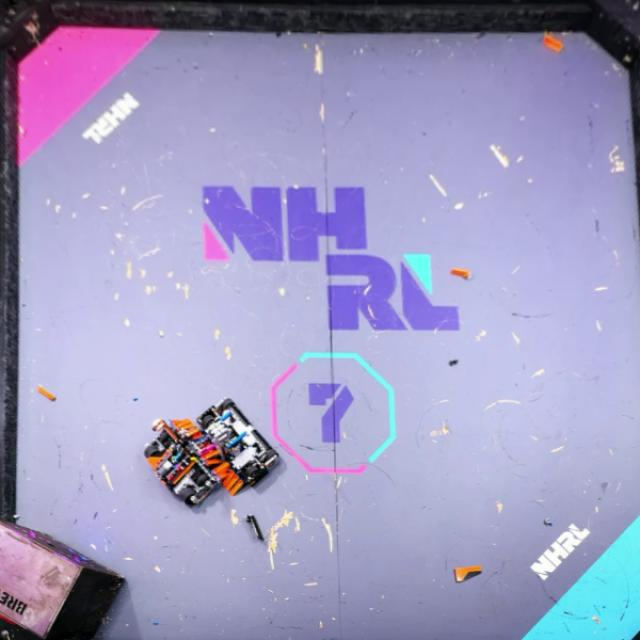housebot: (0, 520, 126, 640)
robot: (186, 398, 280, 496), (144, 418, 229, 506)
